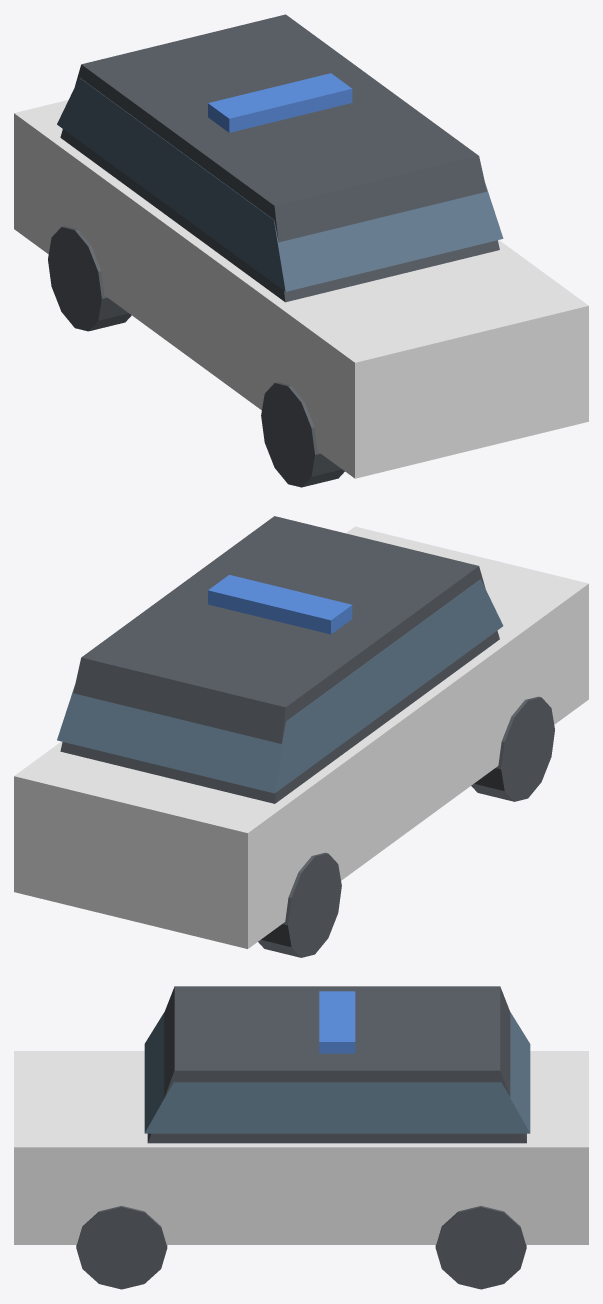
The model's file is synth_suv.glb.
3 renders of one model, top to bottom at view 1: azimuth 30°, elevation 25°; view 2: azimuth 150°, elevation 25°; view 3: azimuth 270°, elevation 25°, orthographic. The views are drawn at different scales.
Bounding box in the file's own units: 1.95 × 2.06 × 4.8.
